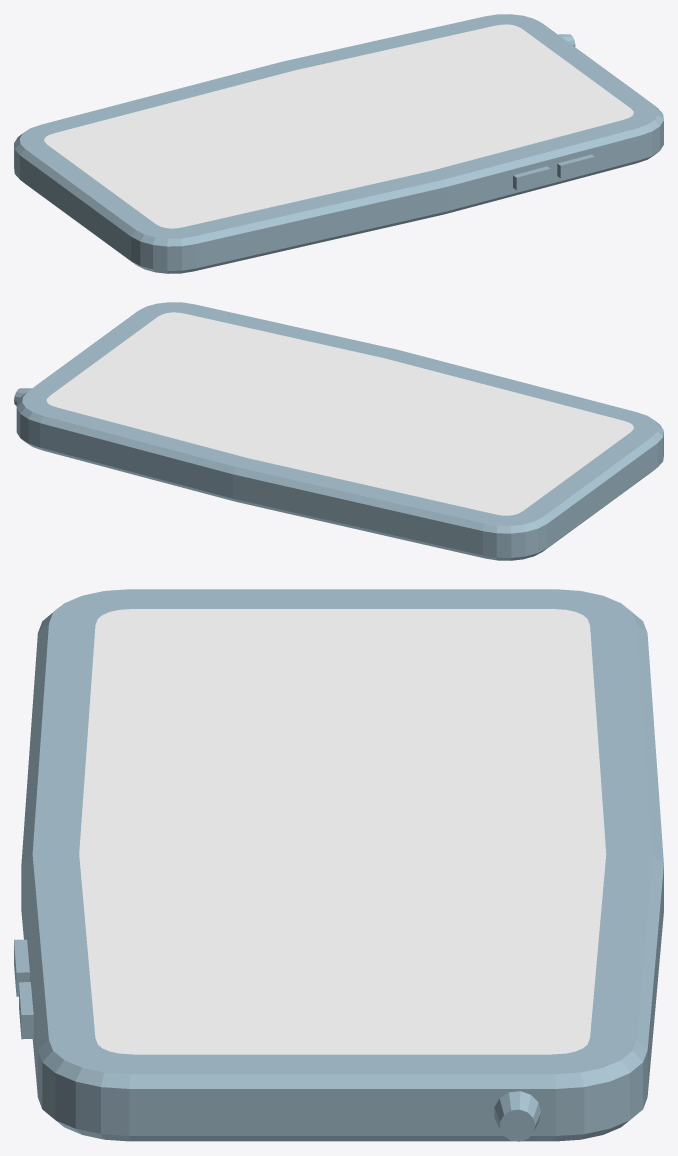
File: SM_Telephone.fbx
3 views of the same model, one above another, from view 1: azimuth 30°, elevation 25°; view 2: azimuth 150°, elevation 25°; view 3: azimuth 270°, elevation 25° (orthographic). The views are drawn at different scales.
Visible parts, largest first — view 1: Telephone; view 2: Telephone; view 3: Telephone.
Part boxes in pixels (x1,y1,x2,y2): Telephone: (14, 14, 663, 273); Telephone: (14, 302, 663, 560); Telephone: (14, 589, 663, 1141).
Bounding box in the file's own units: 28.79 × 1.78 × 15.58.
